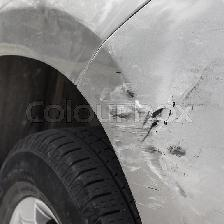bumper_scratch: (71, 47, 224, 197)
